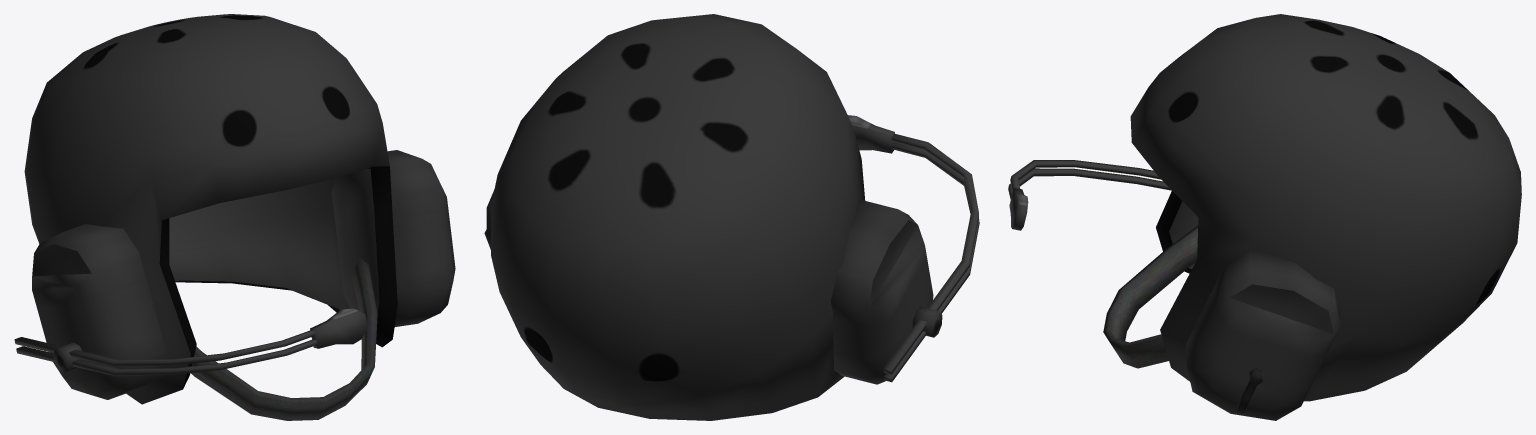
File: MilitaryTacticalHelmet_WorldItem.fbx
3 views of the same model, side by side, from view 1: azimuth 30°, elevation 25°; view 2: azimuth 150°, elevation 25°; view 3: azimuth 270°, elevation 25° (orthographic). The views are drawn at different scales.
Parts seen in each view (by area): view 1: Plane.009_Plane.011; view 2: Plane.009_Plane.011; view 3: Plane.009_Plane.011.
Boxes of the visible parts, x1=… form: Plane.009_Plane.011: x1=14, y1=14, x2=455, y2=420; Plane.009_Plane.011: x1=484, y1=14, x2=979, y2=420; Plane.009_Plane.011: x1=1008, y1=14, x2=1521, y2=420.
Bounding box in the file's own units: 0.4374 × 0.3415 × 0.5038.
